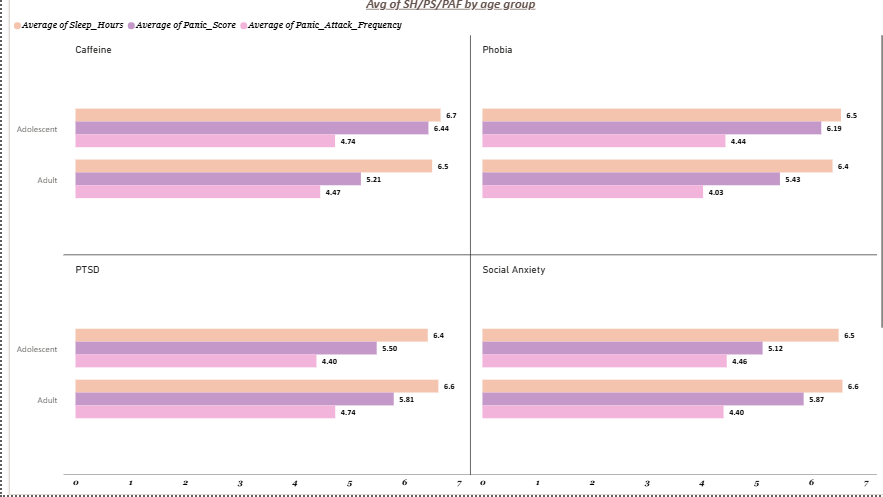

This screenshot's page, from the dashboard's own definition file:
{"tool":"powerbi","page":{"name":"Age group analsis","canvas":[1280,720],"ordinal":2},"visuals":[{"type":"clusteredBarChart","title":"Avg of SH/PS/PAF by age group","fields":{"Category":["panic_attack_dataset.Age Group IF"],"Rows":["panic_attack_dataset.Trigger"],"Y":["Avg(panic_attack_dataset.Sleep_Hours)","Avg(panic_attack_dataset.Panic_Score)","Avg(panic_attack_dataset.Panic_Attack_Frequency)"]},"box":[10.1,0,1270.1,720],"z":0}]}

Visuals, with their boxes in screenshot pixels (x1, y1, x2, y2), scaled from the page's 1280x720 canvas onto the 883x497 screenshot:
"Avg of SH/PS/PAF by age group" clusteredBarChart: (x1=7, y1=0, x2=882, y2=496)
